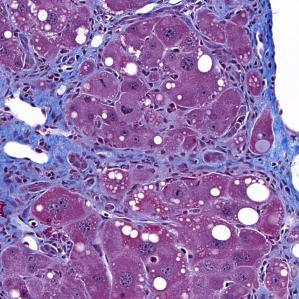fibrosis: (13, 66, 97, 193), (236, 90, 289, 178)
